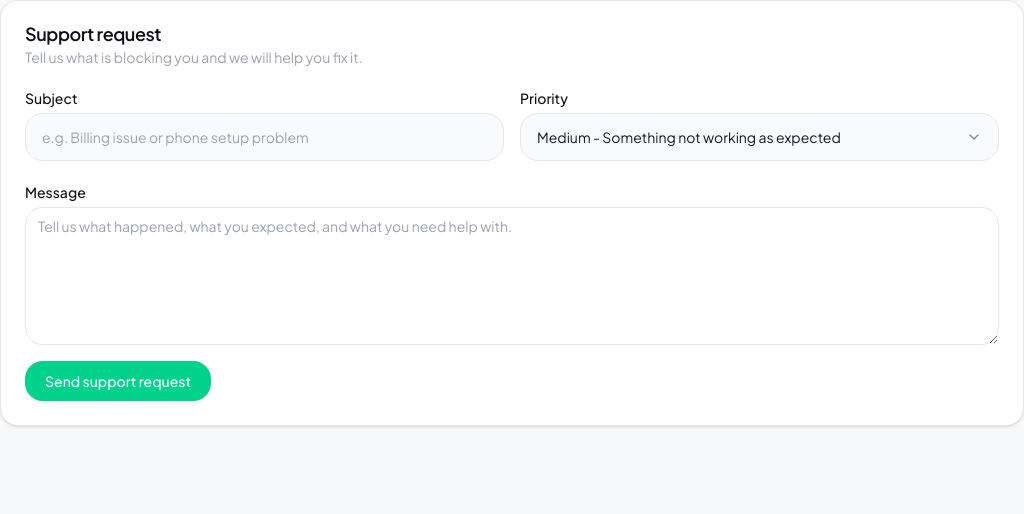
Test case: SupportRequestPanel › clears a previous error and shows only success after a retry succeeds
Step 1. Type "Need help" into the field labelled "Subject" → (264, 137), box [25,113,504,161]
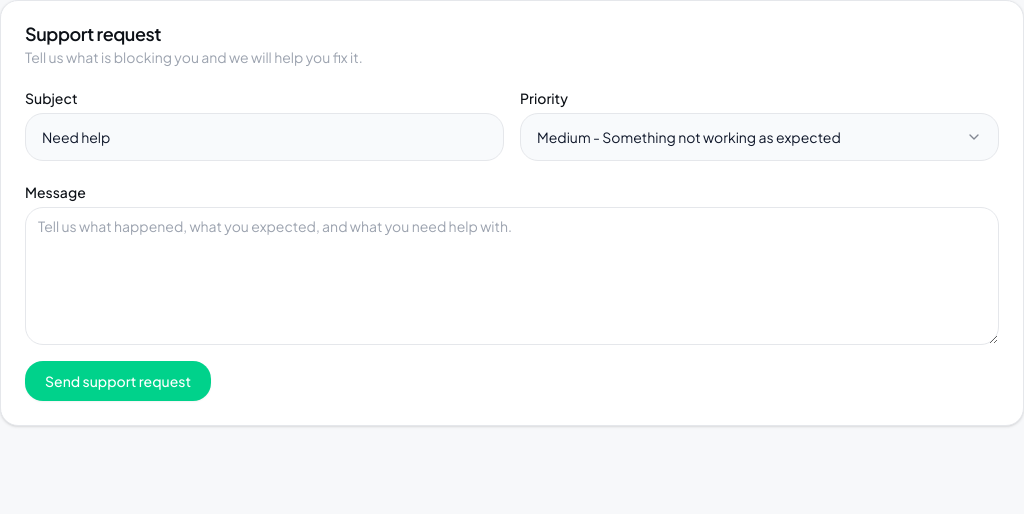
Step 2. Replace the text in the text box labelled "Message" with "Please help with setup." → (512, 276), box [25,207,999,345]
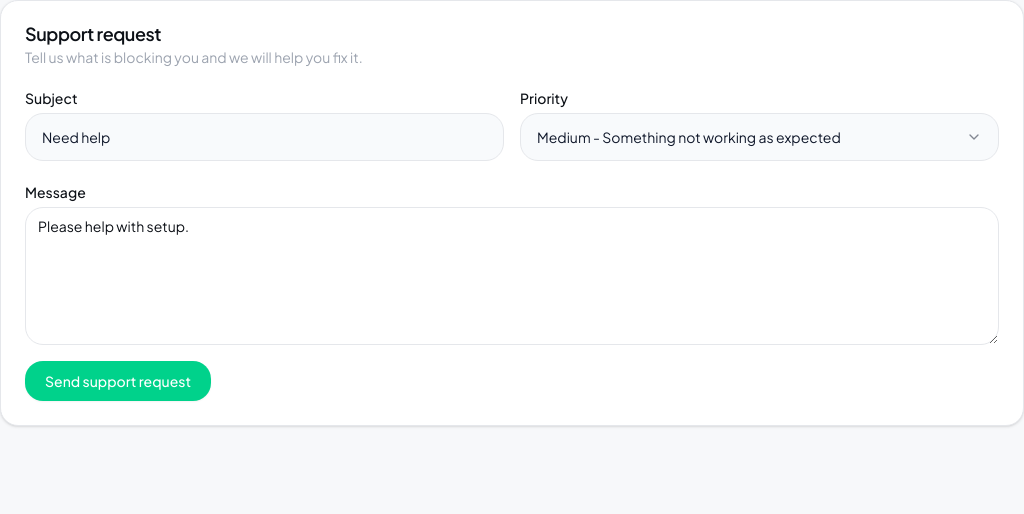
Step 3. Submit the form, box [25,91,999,401]
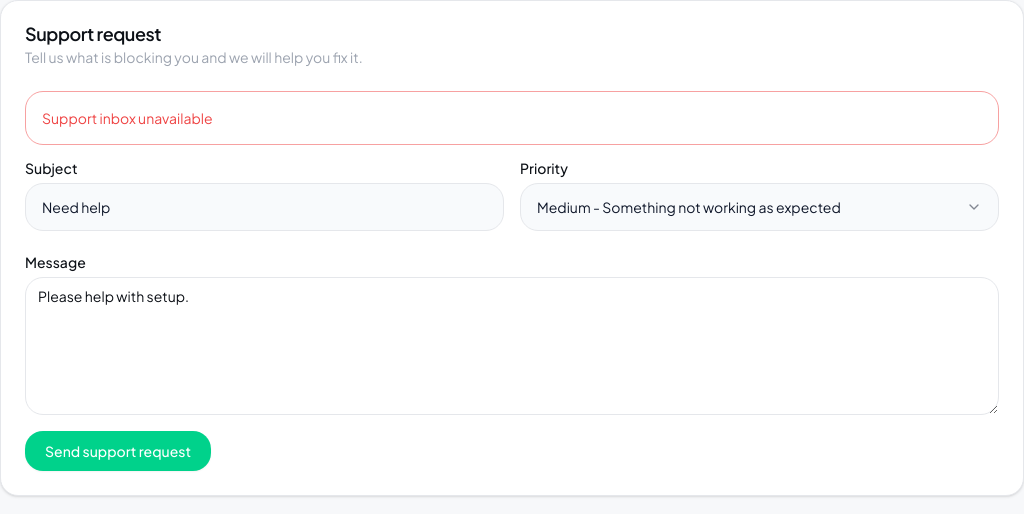
Check: the text "Support inbox unavailable" is shown, box [42,109,213,127]
Step 4. Replace the text in the field labelled "Subject" with "Need help again" → (264, 207), box [25,183,504,231]
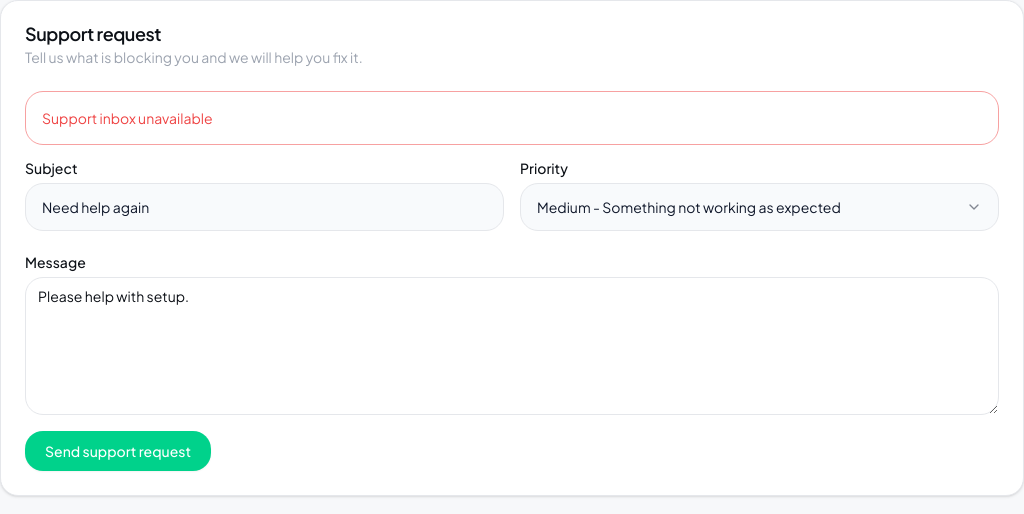
Step 5. Replace the text in the text box labelled "Message" with "Retrying with more detail." → (512, 346), box [25,277,999,415]
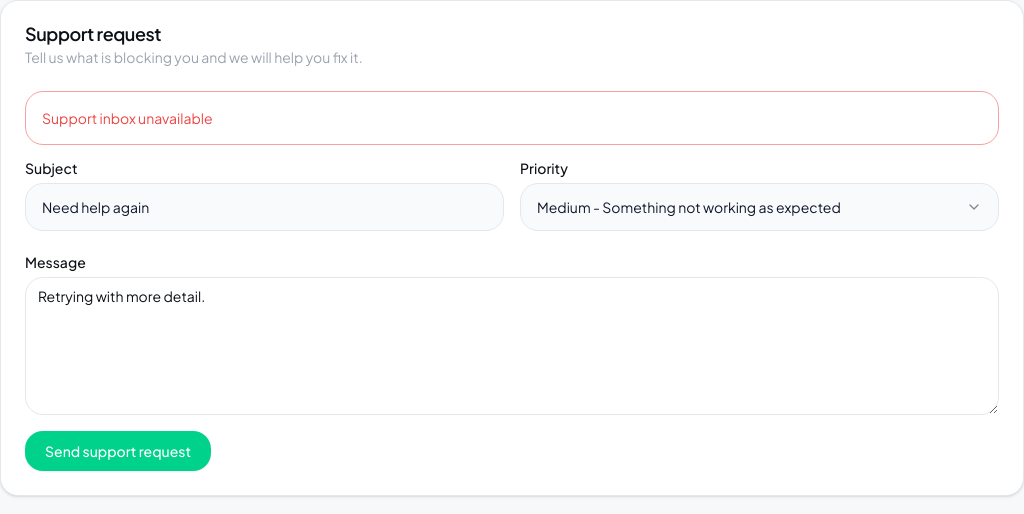
Step 6. Submit the form, box [25,161,999,471]
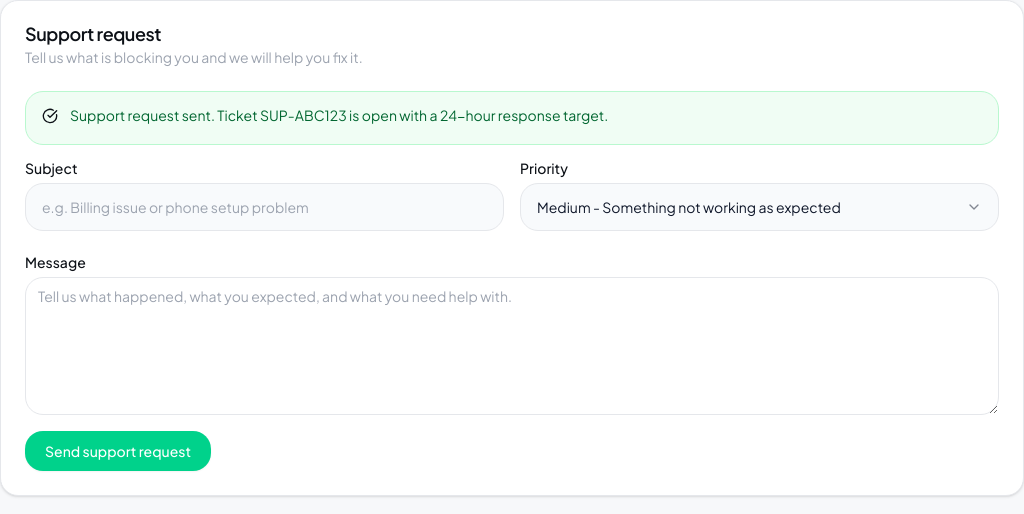
Check: the text "Ticket SUP-ABC123 is open" is shown, box [70,106,608,124]
Check: the text "Support inbox unavailable" is gone
